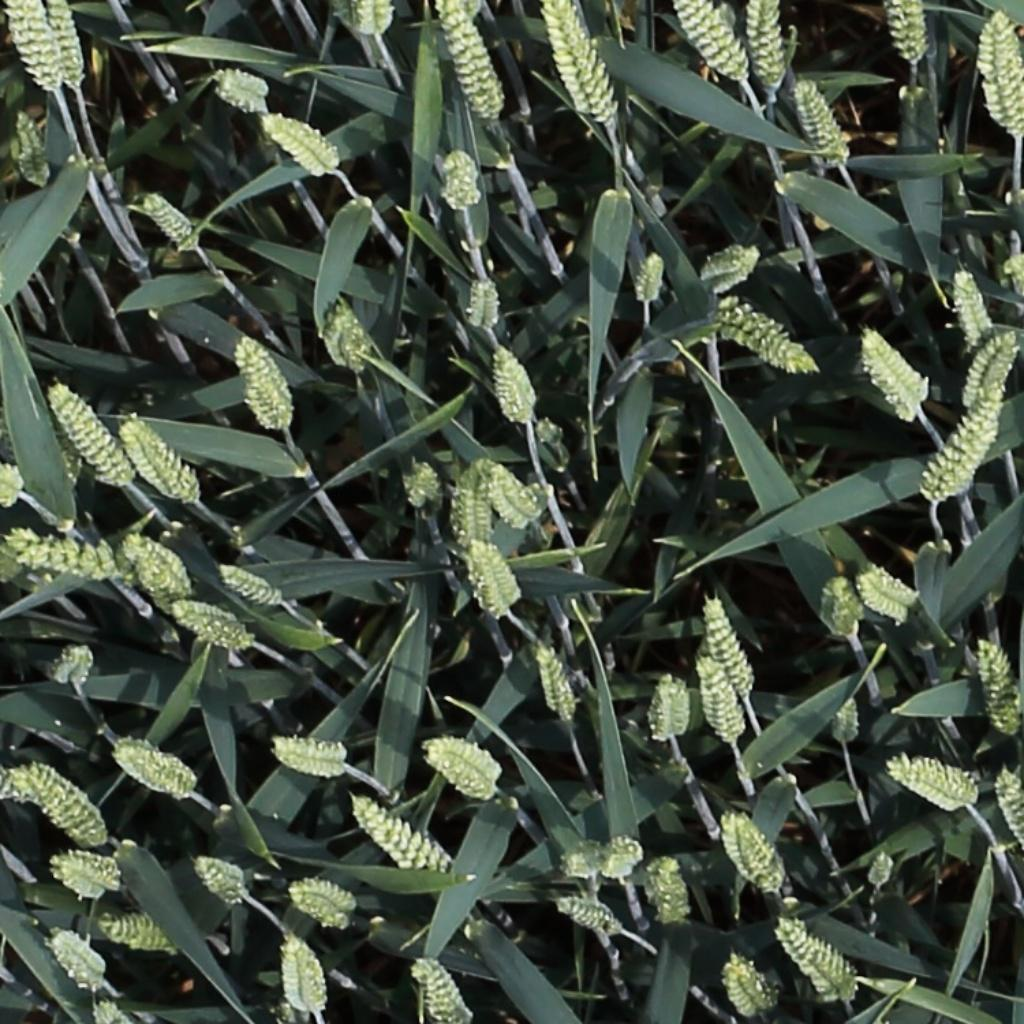0-0: (0, 756, 113, 853), (922, 380, 1007, 506), (537, 0, 617, 133), (713, 296, 820, 386), (46, 378, 132, 488), (118, 409, 209, 511), (438, 0, 503, 125), (353, 797, 451, 876), (413, 731, 510, 808), (778, 918, 860, 1003), (975, 3, 1024, 143), (861, 324, 928, 424), (109, 735, 202, 805), (884, 752, 981, 819), (4, 531, 132, 581), (466, 535, 530, 629), (673, 0, 748, 80), (851, 560, 932, 634), (704, 595, 757, 701), (444, 455, 500, 554), (405, 953, 480, 1024), (715, 947, 785, 1023), (234, 337, 290, 430), (792, 75, 846, 169), (724, 812, 782, 897), (9, 1, 61, 94), (287, 869, 360, 935), (126, 536, 188, 613), (277, 931, 332, 1016), (262, 111, 337, 173), (963, 326, 1018, 410), (266, 734, 353, 787), (977, 634, 1019, 740), (700, 652, 745, 748), (533, 638, 580, 727), (203, 64, 280, 118), (483, 461, 548, 524), (94, 909, 177, 957), (491, 339, 537, 425), (47, 850, 124, 901), (46, 0, 87, 94), (46, 929, 106, 993), (140, 187, 200, 249), (818, 569, 866, 643), (326, 297, 374, 371), (172, 604, 251, 648), (12, 103, 51, 189), (953, 263, 991, 350), (752, 2, 785, 96), (462, 263, 503, 337), (219, 563, 286, 607), (191, 858, 247, 909), (993, 767, 1024, 854), (656, 851, 688, 932), (442, 144, 481, 210), (887, 0, 927, 64), (704, 245, 761, 289), (597, 836, 651, 879), (406, 458, 441, 518), (559, 899, 622, 932), (638, 244, 667, 309), (552, 842, 601, 879), (51, 644, 92, 688), (357, 0, 398, 44), (866, 846, 899, 899), (834, 690, 862, 750), (670, 677, 693, 746), (0, 457, 26, 509), (284, 821, 333, 847), (0, 520, 17, 580), (91, 995, 126, 1024)
